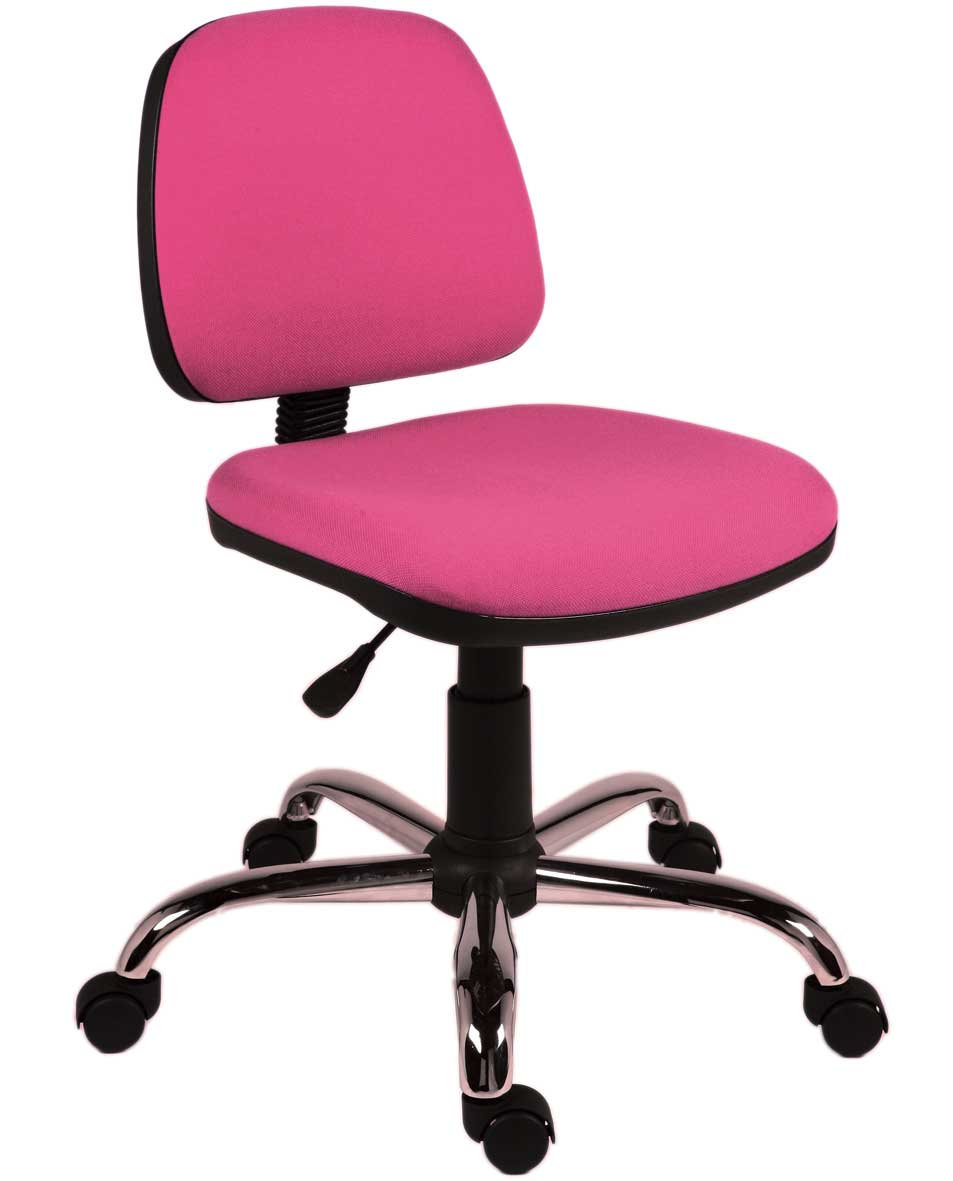chairs: (78, 11, 891, 1178)
